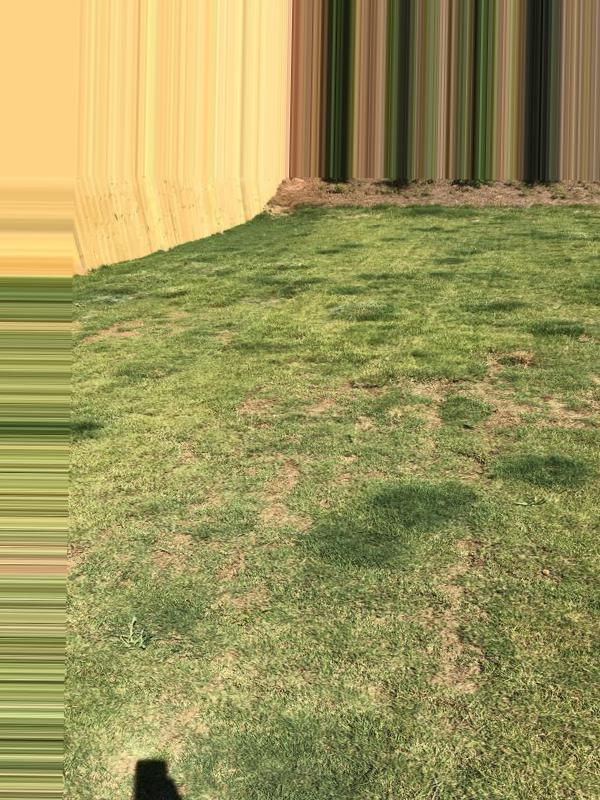patch: (299, 343, 474, 467), (382, 535, 485, 672), (162, 484, 298, 587), (133, 661, 212, 770), (91, 302, 235, 353), (499, 366, 590, 430)
